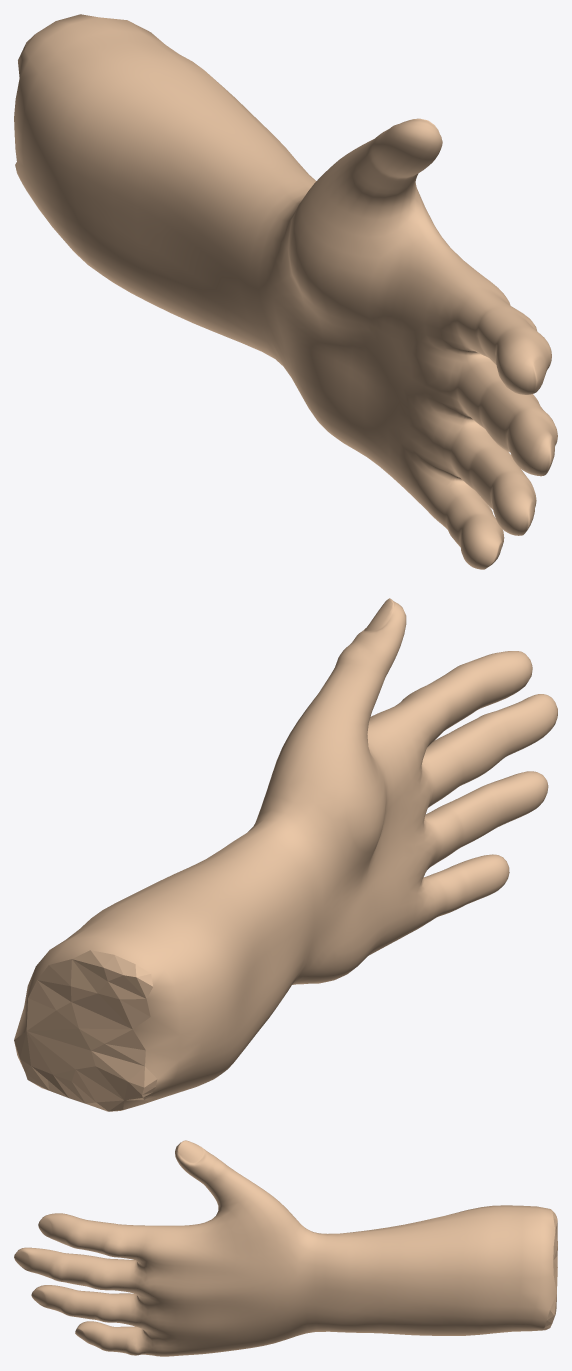
File: hand_20190806b-left.fbx
3 views of the same model, one above another, from view 1: azimuth 30°, elevation 25°; view 2: azimuth 150°, elevation 25°; view 3: azimuth 270°, elevation 25° (orthographic). The views are drawn at different scales.
Visible parts, largest first — view 1: HandRight; view 2: HandRight; view 3: HandRight.
Part boxes in pixels (x1,y1,x2,y2): HandRight: [14, 14, 557, 569]; HandRight: [14, 598, 557, 1111]; HandRight: [14, 1140, 557, 1356].
Bounding box in the file's own units: 110 × 220 × 513.
